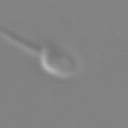normal: (1, 25, 42, 57)
